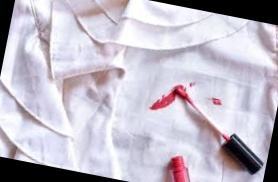lipstick: (148, 95, 180, 115), (160, 81, 185, 105), (207, 94, 225, 108), (187, 80, 197, 89)
